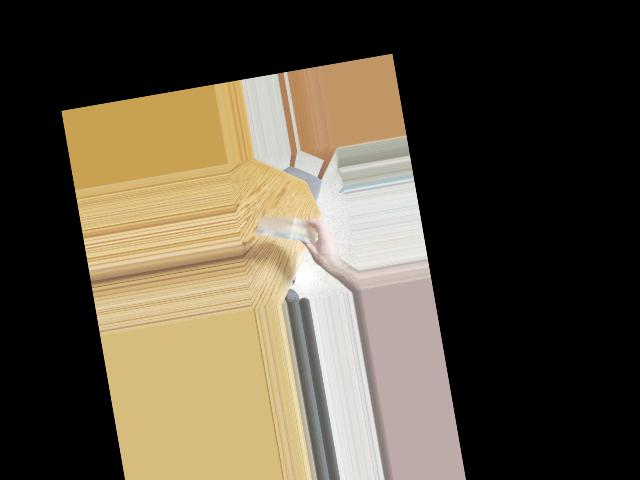cheese: (252, 210, 324, 246)
